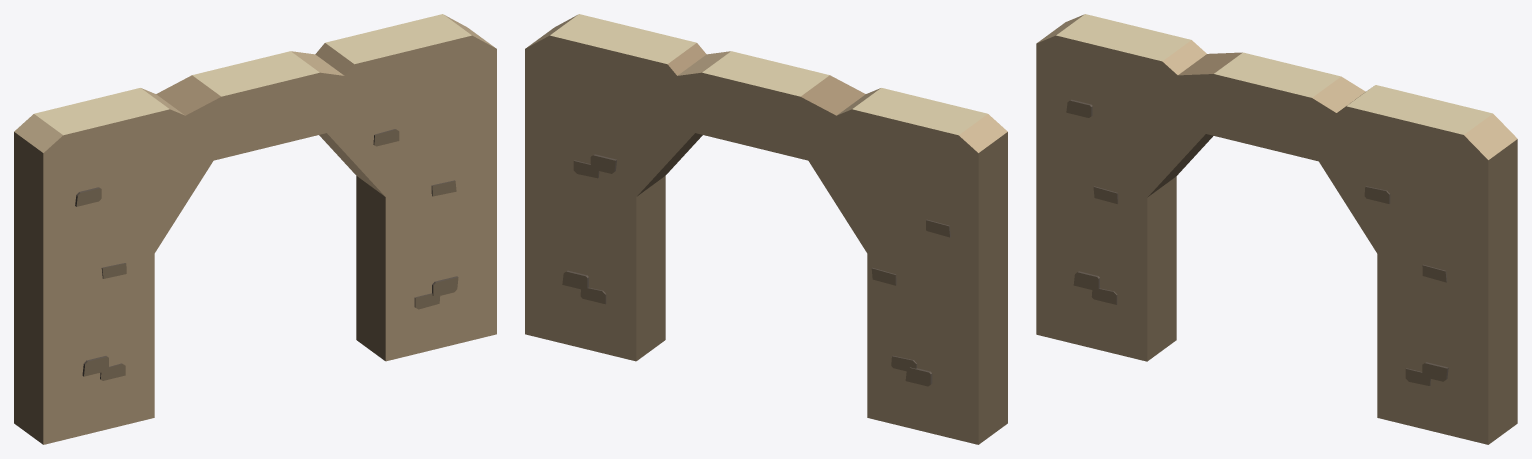
The model's file is TB_D_Bd_Gate_Plain_A.FBX.
3 views of the same model, side by side, from view 1: azimuth 30°, elevation 25°; view 2: azimuth 150°, elevation 25°; view 3: azimuth 330°, elevation 25° (orthographic).
Parts seen in each view (by area): view 1: TB_D_Bd_Gate_Plain_A; view 2: TB_D_Bd_Gate_Plain_A; view 3: TB_D_Bd_Gate_Plain_A.
Part boxes in pixels (x1,y1,x2,y2): TB_D_Bd_Gate_Plain_A: [14, 14, 496, 444]; TB_D_Bd_Gate_Plain_A: [525, 14, 1007, 444]; TB_D_Bd_Gate_Plain_A: [1036, 14, 1517, 444].
Size of the model in its own units: 6.23 by 4 by 0.7691.
